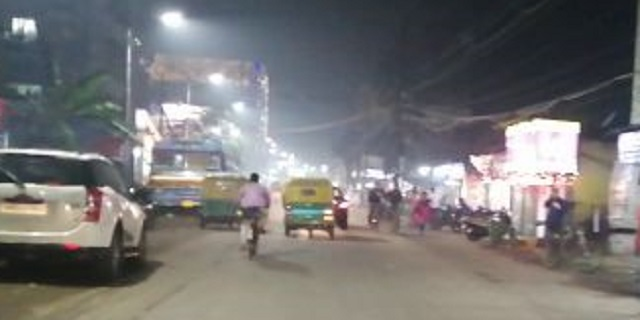Autorickshaw: (285, 175, 336, 246)
Cycle: (230, 169, 271, 263)
